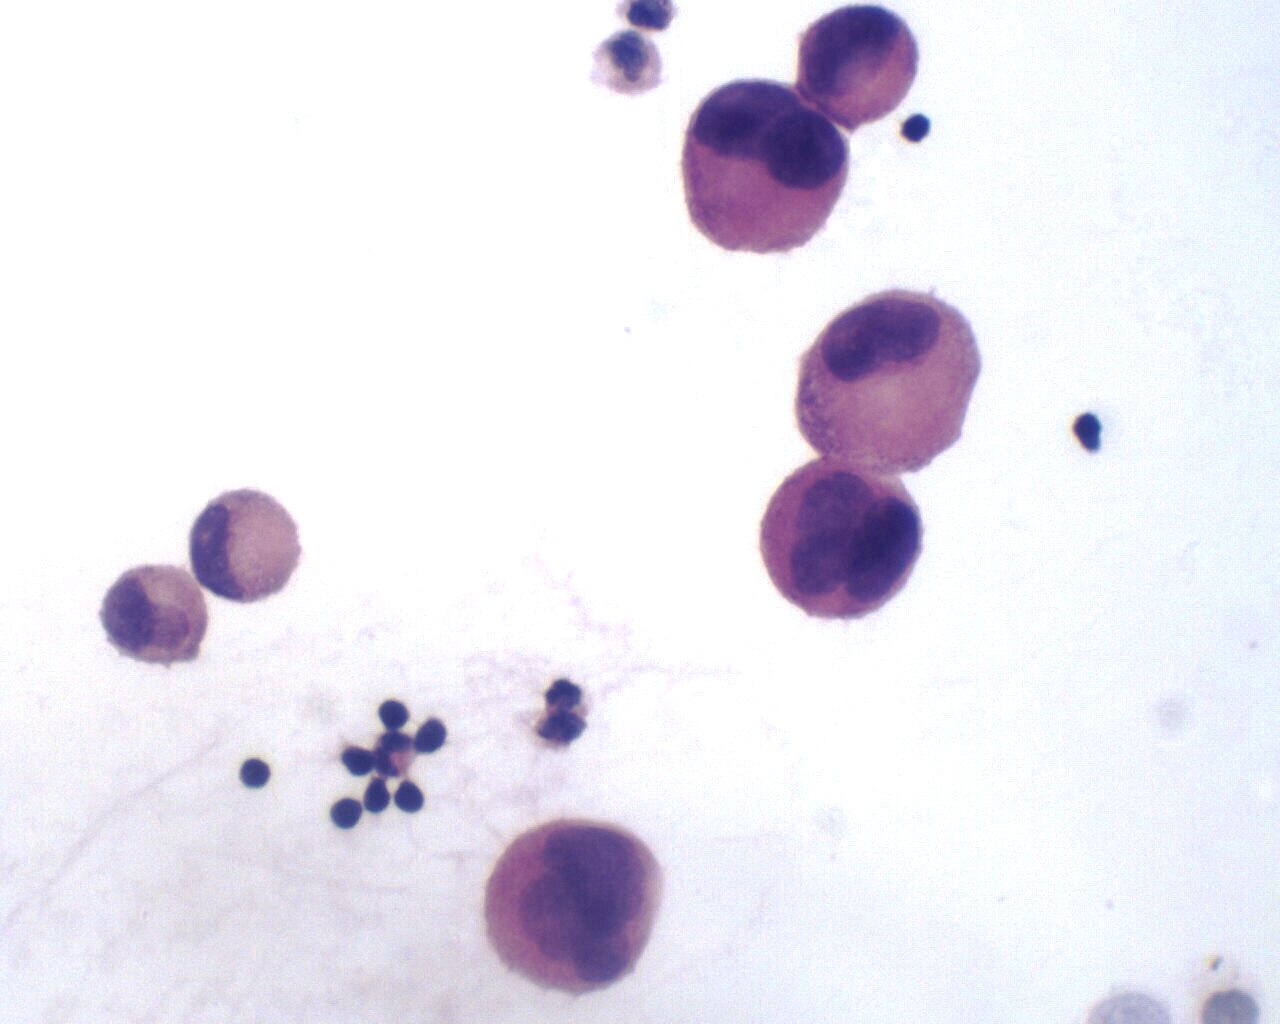ab: (800, 288, 985, 474), (479, 820, 665, 994), (678, 75, 850, 254), (752, 457, 932, 627), (800, 1, 917, 133)
histo: (185, 485, 307, 607)
lymph: (372, 686, 416, 734), (236, 754, 276, 795), (323, 796, 367, 833), (385, 778, 425, 815)
